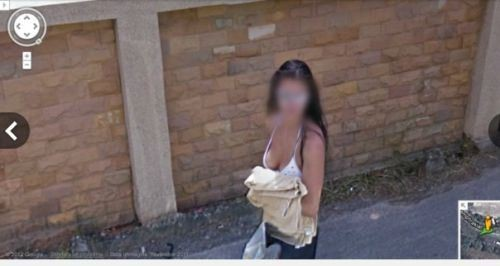people: (256, 61, 328, 266)
